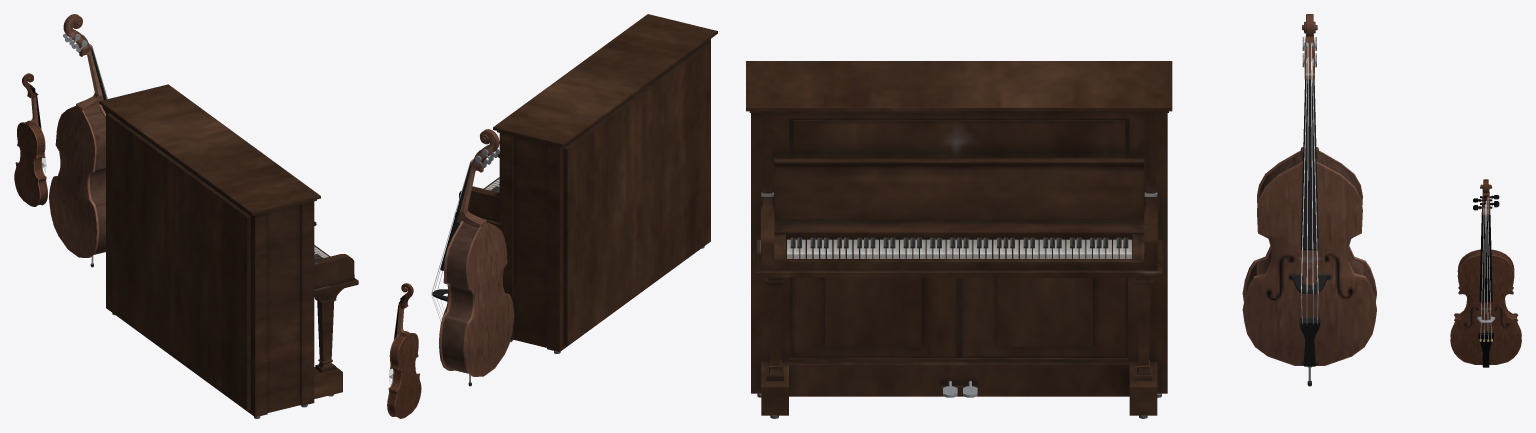
Rendered from instruments--violin---piano----double-ba-3abd06.glb.
3 renders of one model, left to right at view 1: azimuth 30°, elevation 25°; view 2: azimuth 150°, elevation 25°; view 3: azimuth 270°, elevation 25°, orthographic. The views are drawn at different scales.
Parts seen in each view (by area): view 1: PropMesh; view 2: PropMesh; view 3: PropMesh.
Boxes of the visible parts, left/top/right/bottom form: PropMesh: left=14, top=14, right=358, bottom=418; PropMesh: left=387, top=14, right=717, bottom=418; PropMesh: left=746, top=14, right=1521, bottom=418.
Size of the model in its own units: 0.5965 by 1.32 by 2.6.
3 materials, 3 textured.
